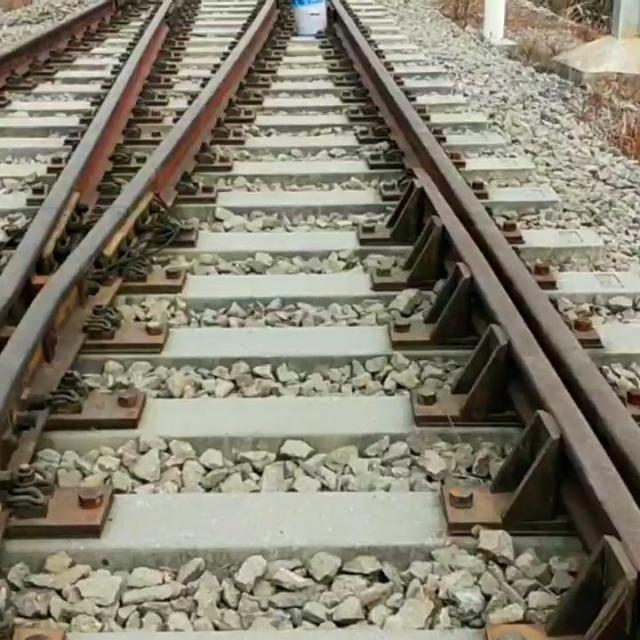danger: (285, 0, 334, 40)
rail: (334, 0, 640, 502), (0, 0, 276, 421), (418, 170, 640, 572), (0, 0, 172, 324), (0, 0, 117, 85)
